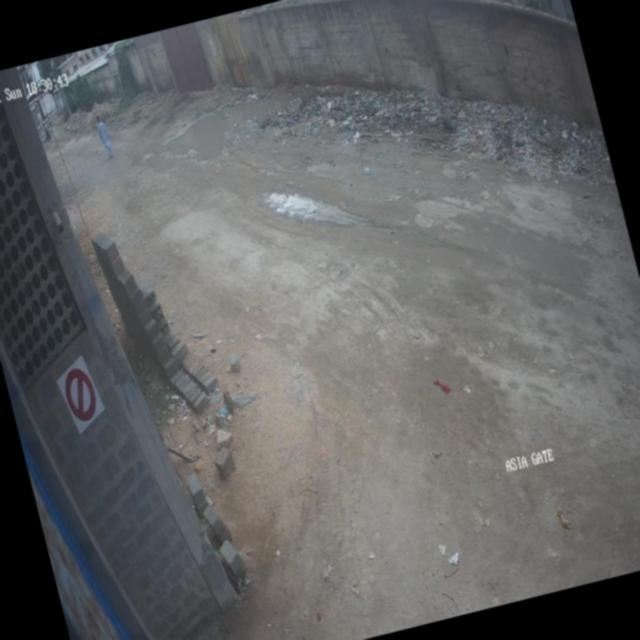person: (90, 108, 121, 168)
